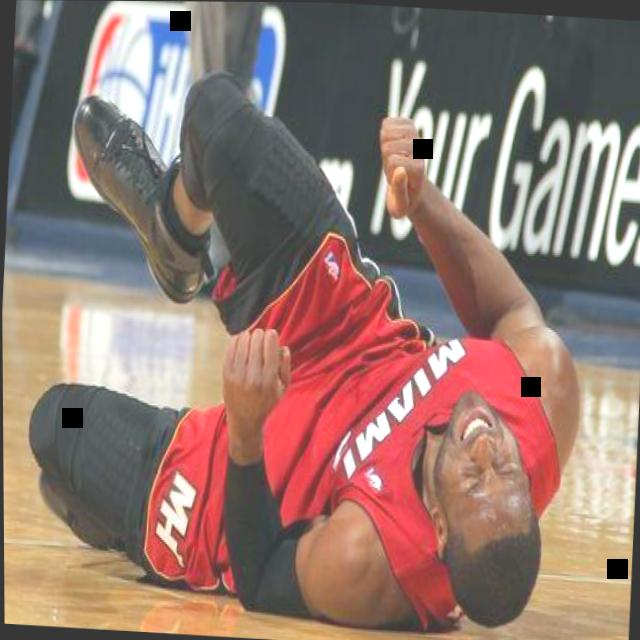Fall-Detected: (0, 19, 618, 640)
